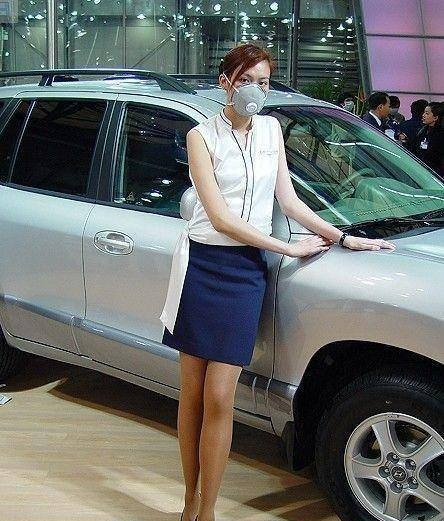face_mask: (230, 67, 269, 115), (378, 98, 389, 118), (421, 106, 432, 124)
